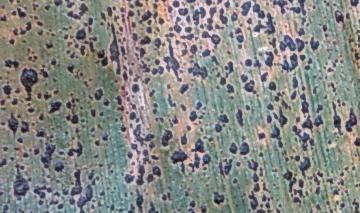tarspot: (13, 162, 29, 200), (110, 22, 120, 74), (166, 37, 180, 70), (40, 142, 56, 168), (20, 68, 38, 91), (186, 63, 207, 80), (70, 169, 83, 196), (333, 101, 342, 135), (346, 107, 357, 132), (67, 141, 84, 157), (265, 11, 276, 35), (135, 187, 145, 213), (8, 113, 18, 138), (171, 149, 188, 163), (133, 124, 144, 145), (272, 1, 288, 15), (248, 190, 259, 210), (83, 182, 94, 201), (162, 128, 173, 146), (270, 123, 281, 141), (136, 164, 145, 186), (191, 138, 205, 152), (253, 19, 267, 33), (284, 35, 296, 51), (288, 52, 298, 71), (263, 51, 274, 68), (240, 1, 252, 16), (278, 110, 288, 128), (334, 9, 345, 25), (76, 196, 86, 213), (49, 101, 62, 114), (212, 191, 224, 205), (298, 156, 310, 170), (148, 198, 159, 213), (219, 7, 228, 25), (295, 37, 305, 53), (303, 114, 313, 130), (247, 159, 259, 172), (235, 109, 243, 127), (244, 80, 256, 92), (279, 97, 291, 109), (75, 27, 86, 40), (166, 94, 176, 108), (211, 33, 221, 47), (282, 168, 293, 180), (78, 3, 88, 16), (239, 142, 249, 155), (314, 115, 324, 128), (33, 188, 46, 198), (163, 56, 171, 72), (352, 197, 360, 213), (20, 120, 29, 134), (301, 100, 310, 114), (310, 37, 319, 51), (298, 1, 307, 15), (66, 11, 81, 19), (94, 88, 104, 100), (55, 160, 65, 172), (279, 59, 289, 71), (151, 165, 161, 177), (261, 182, 271, 194), (218, 160, 225, 177), (173, 70, 182, 83), (35, 129, 46, 139), (179, 83, 189, 94), (141, 10, 152, 20), (218, 114, 229, 124), (201, 154, 211, 165), (139, 63, 151, 72), (253, 56, 262, 68), (181, 41, 188, 56), (193, 153, 200, 168), (140, 36, 151, 45), (211, 55, 220, 66), (88, 41, 96, 53), (230, 143, 238, 155), (289, 179, 297, 191), (123, 175, 135, 183), (292, 76, 299, 89), (17, 7, 26, 17), (24, 91, 33, 101), (39, 68, 48, 78), (194, 9, 200, 24), (268, 81, 277, 91), (3, 84, 11, 95), (101, 56, 109, 67), (209, 6, 217, 17), (268, 37, 276, 48), (290, 90, 298, 101), (279, 41, 287, 52), (224, 163, 232, 174), (180, 34, 194, 40), (173, 24, 182, 33), (202, 30, 211, 39), (1, 204, 10, 213), (97, 48, 105, 58), (178, 8, 188, 16), (252, 3, 260, 13), (147, 172, 155, 182), (294, 189, 304, 197), (106, 6, 113, 17), (200, 7, 207, 18), (181, 133, 188, 144), (261, 72, 268, 83), (289, 6, 300, 13), (302, 132, 309, 143), (5, 59, 13, 68), (67, 65, 75, 74), (71, 114, 79, 123), (115, 95, 123, 104), (131, 84, 140, 92), (132, 74, 141, 82), (257, 132, 266, 140), (316, 104, 324, 113), (293, 197, 302, 205), (61, 187, 70, 195), (68, 197, 76, 206), (65, 1, 75, 8), (1, 158, 8, 168), (131, 32, 138, 42), (190, 44, 197, 54), (227, 83, 234, 93), (145, 133, 155, 140), (231, 11, 238, 21), (252, 172, 259, 182), (253, 182, 260, 192), (128, 203, 135, 213), (79, 46, 85, 57), (133, 1, 144, 7), (139, 47, 145, 58), (155, 37, 161, 48), (180, 163, 186, 174), (116, 207, 127, 213), (202, 49, 210, 57), (244, 59, 252, 67), (240, 74, 248, 82), (301, 143, 309, 151), (316, 169, 324, 177), (56, 202, 64, 210), (100, 12, 107, 21), (190, 111, 197, 120), (151, 154, 160, 161), (205, 24, 214, 31), (258, 10, 265, 19), (266, 114, 273, 123), (200, 204, 207, 213), (314, 177, 321, 186), (142, 157, 151, 164), (26, 21, 32, 31), (122, 71, 128, 81), (158, 65, 164, 75), (228, 61, 233, 73), (330, 82, 336, 92), (354, 137, 360, 147), (298, 178, 304, 188), (188, 162, 194, 172), (37, 184, 47, 190), (32, 3, 39, 11), (27, 107, 35, 114), (113, 14, 120, 22), (127, 10, 135, 17), (142, 77, 150, 84), (151, 67, 158, 75), (149, 89, 156, 97), (158, 17, 165, 25), (184, 26, 192, 33), (220, 77, 227, 85), (142, 149, 150, 156), (223, 1, 231, 8), (266, 103, 274, 110), (299, 54, 306, 62), (298, 28, 305, 36), (337, 178, 344, 186), (17, 206, 25, 213), (164, 32, 175, 37), (13, 60, 19, 69), (43, 94, 52, 100), (90, 109, 96, 118), (103, 98, 109, 107), (88, 35, 97, 41), (129, 111, 135, 120), (196, 102, 202, 111), (185, 15, 191, 24), (215, 24, 224, 30), (315, 186, 321, 195), (188, 207, 197, 213), (49, 199, 58, 205), (121, 46, 126, 56), (153, 11, 158, 21), (168, 118, 173, 128), (89, 169, 94, 179), (174, 17, 181, 24), (235, 27, 242, 34), (246, 17, 253, 24), (281, 149, 288, 156), (327, 178, 334, 185), (333, 189, 340, 196), (315, 204, 322, 211), (50, 57, 56, 65), (16, 137, 24, 143), (167, 5, 173, 13), (120, 124, 126, 132), (172, 1, 180, 7), (149, 142, 155, 150), (237, 35, 243, 43), (273, 48, 279, 56), (272, 111, 278, 119), (300, 92, 306, 100), (350, 1, 358, 7), (54, 1, 63, 6), (39, 112, 44, 121), (175, 37, 180, 46), (216, 123, 221, 132), (292, 124, 297, 133), (313, 86, 318, 95), (214, 151, 219, 160), (259, 167, 264, 176), (97, 199, 102, 208), (13, 28, 19, 35), (20, 28, 27, 34), (45, 4, 51, 11), (37, 30, 44, 36), (46, 43, 53, 49), (12, 98, 18, 105), (120, 6, 126, 13), (127, 3, 134, 9), (130, 21, 137, 27), (33, 149, 40, 155), (154, 58, 160, 65), (146, 27, 152, 34), (207, 17, 213, 24), (307, 58, 313, 65), (295, 155, 301, 162), (339, 202, 345, 209), (136, 156, 142, 163), (37, 92, 42, 100), (75, 72, 80, 80), (84, 80, 89, 88), (161, 39, 166, 47), (301, 17, 306, 25), (323, 24, 328, 32), (278, 141, 283, 149), (297, 129, 302, 137), (166, 192, 171, 200), (261, 194, 266, 202), (89, 16, 93, 25), (103, 135, 109, 141), (121, 14, 125, 23), (93, 153, 99, 159), (179, 68, 185, 74), (131, 143, 137, 149), (274, 61, 280, 67), (354, 53, 360, 59), (183, 190, 189, 196), (162, 194, 168, 200), (190, 201, 196, 207), (265, 203, 271, 209), (257, 209, 266, 213), (167, 185, 173, 191), (27, 176, 33, 182), (38, 199, 44, 205), (46, 173, 52, 179), (99, 190, 105, 196), (90, 179, 96, 185), (66, 101, 71, 108), (88, 26, 93, 33), (95, 139, 100, 146), (22, 153, 29, 158), (181, 104, 186, 111), (173, 116, 178, 123), (128, 151, 133, 158), (234, 1, 239, 8), (208, 136, 213, 143), (327, 67, 334, 72), (348, 38, 355, 43), (308, 16, 313, 23), (271, 168, 278, 173), (53, 191, 60, 196), (139, 110, 142, 121), (66, 113, 70, 121), (346, 11, 350, 19), (356, 61, 360, 69), (302, 170, 306, 178), (324, 158, 328, 166), (1, 15, 6, 21), (11, 10, 16, 16), (10, 38, 15, 44), (37, 21, 43, 26), (74, 43, 79, 49), (83, 21, 89, 26), (122, 65, 128, 70), (69, 34, 74, 40), (122, 36, 127, 42), (118, 105, 124, 110), (3, 146, 8, 152), (74, 162, 79, 168), (128, 70, 133, 76), (131, 104, 137, 109), (153, 3, 158, 9), (155, 27, 161, 32), (206, 1, 212, 6), (180, 1, 186, 6), (186, 125, 191, 131), (237, 44, 242, 50), (245, 104, 250, 110), (229, 95, 235, 100), (224, 65, 229, 71), (274, 96, 280, 101), (194, 36, 200, 41), (304, 65, 309, 71), (327, 139, 332, 145), (354, 29, 360, 34), (258, 152, 264, 157), (331, 40, 337, 45), (284, 156, 289, 162), (216, 136, 221, 142), (326, 48, 332, 53), (242, 155, 248, 160), (219, 150, 225, 155), (232, 178, 238, 183), (326, 200, 331, 206), (202, 166, 208, 171), (225, 41, 230, 47), (95, 175, 100, 181), (124, 192, 129, 198), (109, 168, 115, 173), (120, 171, 125, 177), (42, 210, 52, 213), (16, 196, 22, 201), (27, 48, 31, 55), (61, 27, 68, 31), (66, 42, 73, 46), (71, 52, 75, 59), (71, 107, 75, 114), (119, 25, 123, 32), (13, 147, 20, 151), (230, 32, 234, 39), (211, 67, 218, 71), (242, 135, 246, 142), (296, 116, 300, 123), (310, 139, 314, 146), (110, 203, 114, 210), (15, 88, 20, 93), (53, 78, 58, 83), (88, 95, 93, 100), (50, 134, 55, 139), (98, 124, 103, 129), (20, 165, 25, 170), (71, 136, 76, 141), (119, 116, 124, 121), (126, 97, 131, 102), (140, 59, 145, 64), (153, 102, 158, 107), (138, 19, 143, 24), (147, 20, 152, 25), (167, 84, 172, 89), (190, 5, 195, 10), (202, 106, 207, 111), (216, 72, 221, 77), (238, 23, 243, 28), (211, 48, 216, 53), (239, 61, 244, 66), (236, 162, 241, 167), (344, 166, 349, 171), (136, 150, 141, 155), (131, 161, 136, 166), (340, 171, 345, 176), (335, 199, 340, 204), (276, 208, 281, 213), (272, 182, 277, 187), (234, 203, 239, 208), (189, 54, 194, 59), (202, 171, 207, 176), (309, 208, 314, 213), (55, 178, 60, 183), (6, 198, 11, 203), (129, 169, 134, 174), (1, 99, 5, 105), (19, 99, 25, 103), (26, 102, 32, 106), (53, 90, 59, 94), (64, 34, 68, 40), (65, 50, 71, 54), (89, 128, 95, 132), (75, 127, 79, 133), (77, 134, 81, 140), (130, 93, 134, 99), (137, 10, 141, 16), (153, 108, 157, 114), (155, 117, 159, 123), (160, 117, 164, 123), (129, 122, 133, 128), (135, 117, 139, 123), (201, 23, 205, 29), (216, 1, 222, 5), (140, 105, 144, 111), (98, 163, 104, 167), (312, 4, 316, 10), (328, 53, 332, 59), (228, 159, 234, 163), (307, 175, 313, 179), (305, 190, 309, 196), (1, 191, 5, 197), (186, 1, 197, 3), (357, 35, 360, 42), (266, 210, 273, 213), (1, 5, 6, 9), (34, 15, 38, 20), (31, 59, 36, 63), (41, 64, 46, 68), (1, 121, 5, 126), (68, 25, 73, 29), (75, 98, 80, 102), (71, 98, 75, 103), (84, 40, 89, 44), (99, 22, 104, 26), (112, 6, 116, 11), (114, 79, 119, 83), (81, 125, 86, 129), (117, 37, 121, 42), (59, 151, 64, 155), (125, 90, 129, 95), (169, 26, 173, 31), (227, 51, 232, 55), (163, 7, 167, 12), (247, 26, 251, 31), (193, 122, 198, 126), (259, 52, 264, 56), (278, 92, 282, 97), (199, 45, 203, 50), (266, 2, 270, 7), (279, 30, 283, 35), (283, 54, 287, 59), (333, 2, 337, 7), (324, 33, 328, 38), (332, 62, 336, 67), (323, 95, 328, 99), (326, 147, 330, 152), (340, 59, 344, 64), (354, 153, 358, 158), (290, 155, 294, 160), (318, 22, 322, 27), (325, 61, 329, 66), (222, 123, 226, 128), (311, 146, 315, 151), (356, 183, 360, 188), (267, 197, 271, 202), (260, 203, 264, 208), (278, 203, 282, 208), (242, 192, 246, 197), (71, 181, 75, 186), (47, 187, 51, 192), (91, 204, 95, 209), (65, 130, 68, 136), (121, 84, 124, 90), (158, 50, 161, 56), (198, 119, 201, 125), (295, 137, 298, 143), (357, 78, 360, 84), (29, 15, 33, 19), (28, 56, 32, 60), (33, 55, 37, 59), (7, 95, 11, 99), (17, 114, 21, 118), (70, 93, 74, 97), (80, 72, 84, 76), (96, 60, 100, 64), (99, 112, 103, 116), (106, 26, 110, 30), (116, 30, 120, 34), (115, 118, 119, 122), (11, 157, 15, 161), (28, 148, 32, 152), (147, 58, 151, 62), (125, 110, 129, 114), (199, 115, 203, 119), (190, 84, 194, 88), (200, 128, 204, 132), (302, 87, 306, 91), (304, 41, 308, 45), (313, 75, 317, 79), (318, 76, 322, 80), (346, 87, 350, 91), (339, 54, 343, 58), (205, 123, 209, 127), (223, 158, 227, 162), (290, 194, 294, 198), (130, 191, 134, 195), (113, 186, 117, 190), (106, 205, 110, 209), (9, 1, 14, 4), (22, 40, 27, 43), (45, 32, 50, 35), (1, 107, 6, 110), (31, 123, 36, 126), (135, 53, 138, 58), (284, 23, 287, 28), (325, 75, 328, 80), (352, 165, 355, 170), (318, 69, 323, 72), (309, 180, 312, 185), (344, 190, 349, 193), (330, 208, 333, 213), (126, 1, 133, 3), (358, 18, 360, 25), (24, 6, 27, 10), (31, 51, 35, 54), (49, 28, 52, 32), (52, 33, 55, 37), (45, 82, 48, 86), (59, 30, 62, 34), (76, 55, 79, 59), (72, 104, 76, 107), (89, 78, 92, 82), (80, 106, 83, 110), (51, 128, 55, 131), (81, 119, 85, 122), (107, 22, 110, 26), (131, 62, 134, 66), (136, 47, 139, 51), (160, 1, 166, 3), (213, 1, 216, 5), (202, 112, 206, 115), (216, 86, 220, 89), (257, 94, 260, 98), (282, 91, 285, 95), (306, 23, 309, 27), (327, 2, 330, 6), (338, 99, 341, 103), (358, 44, 360, 50), (323, 66, 326, 70), (263, 40, 266, 44), (330, 170, 333, 174), (177, 208, 181, 211), (228, 127, 232, 130), (106, 187, 110, 190), (289, 1, 294, 3), (17, 1, 20, 4), (46, 91, 49, 94), (124, 57, 127, 60), (335, 60, 338, 63), (221, 111, 224, 114), (346, 193, 349, 196), (29, 210, 32, 213), (323, 1, 327, 3), (343, 102, 345, 106), (351, 47, 353, 51), (339, 104, 341, 107), (154, 1, 159, 2), (1, 76, 2, 80)
